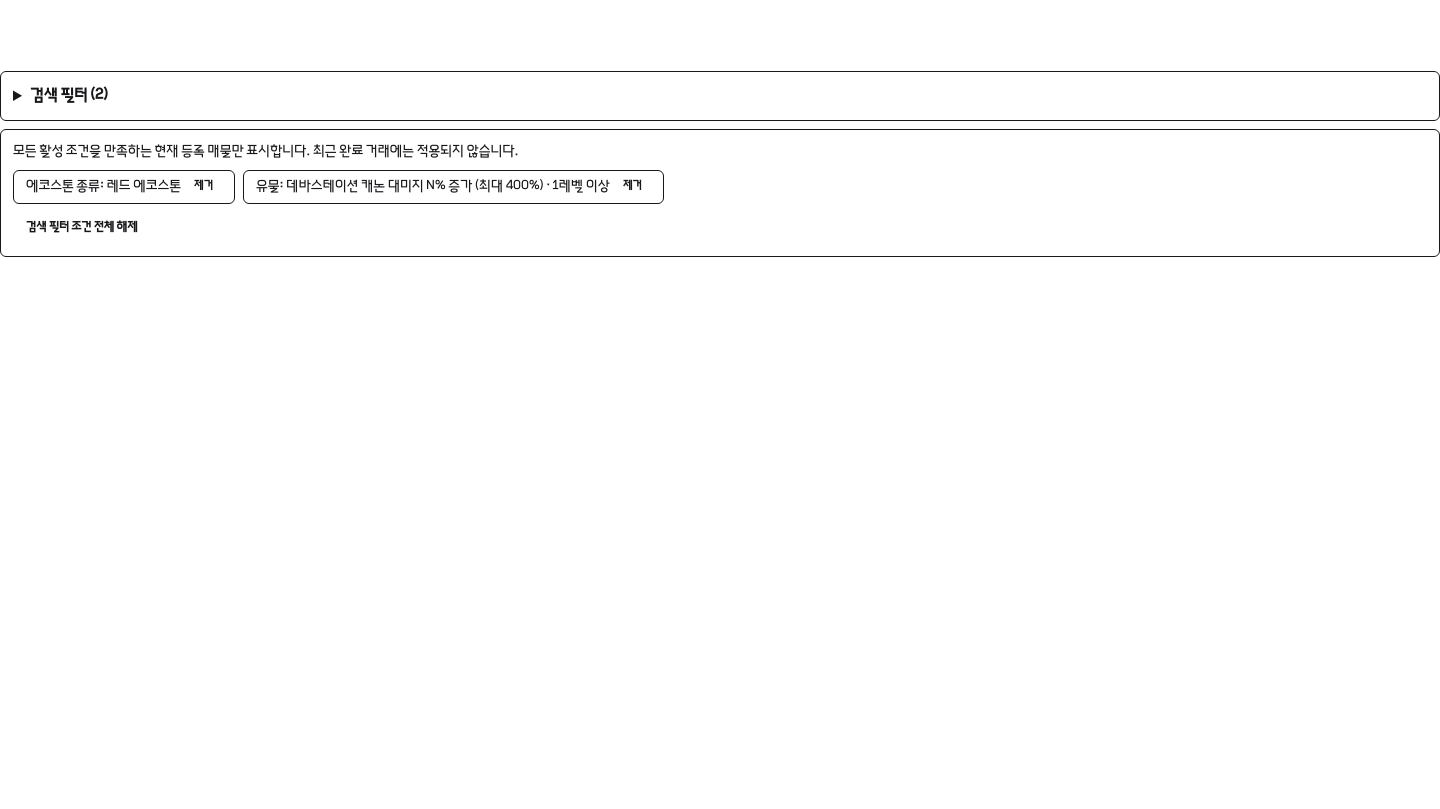
Test: shows a dismissible error toast for conflicting targets without applying or clearing drafts
Click the heading "검색 필터 (2)" at (69, 96), box [30,87,108,105]
(page scrolled)
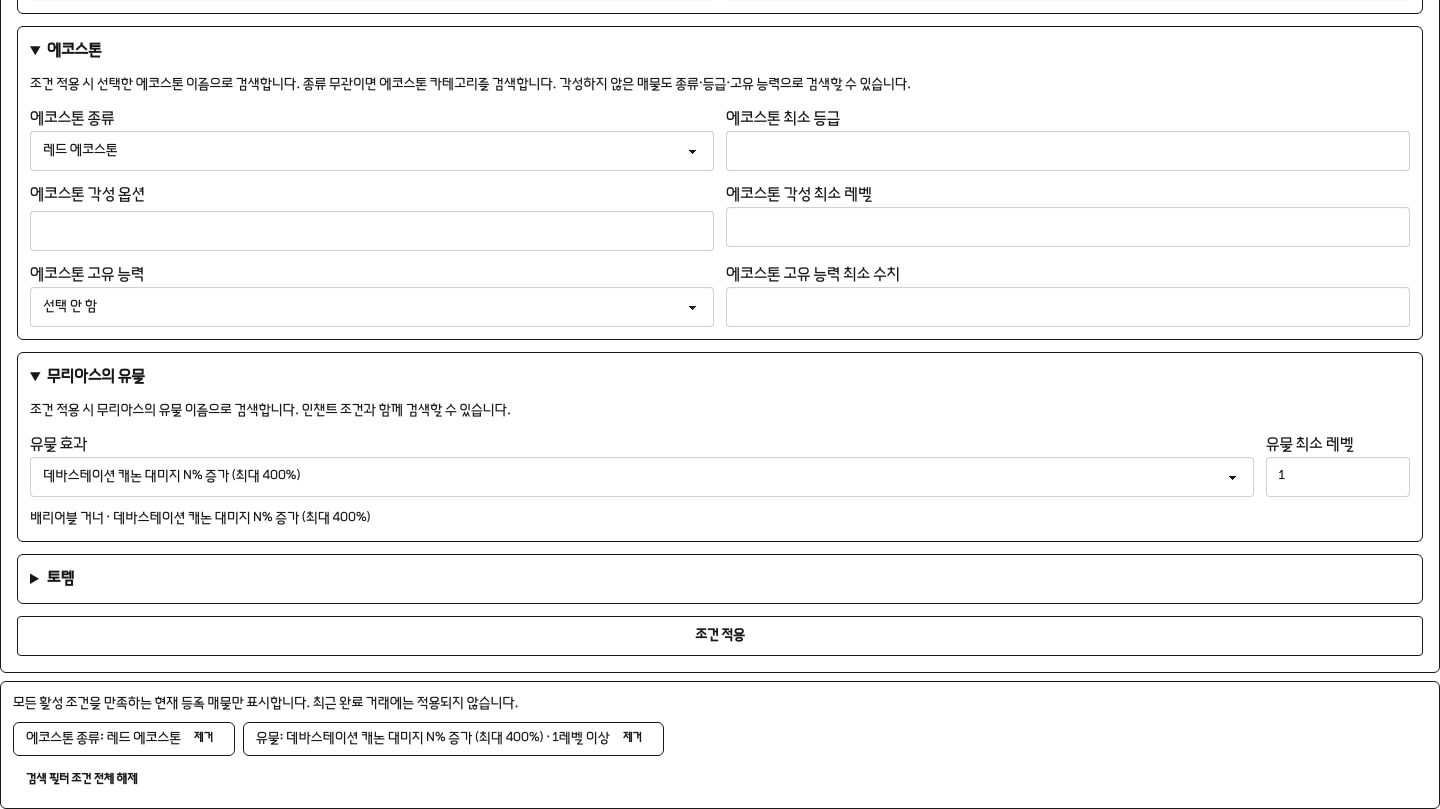
Click the button "조건 적용" at (720, 636), box [17,616,1423,656]
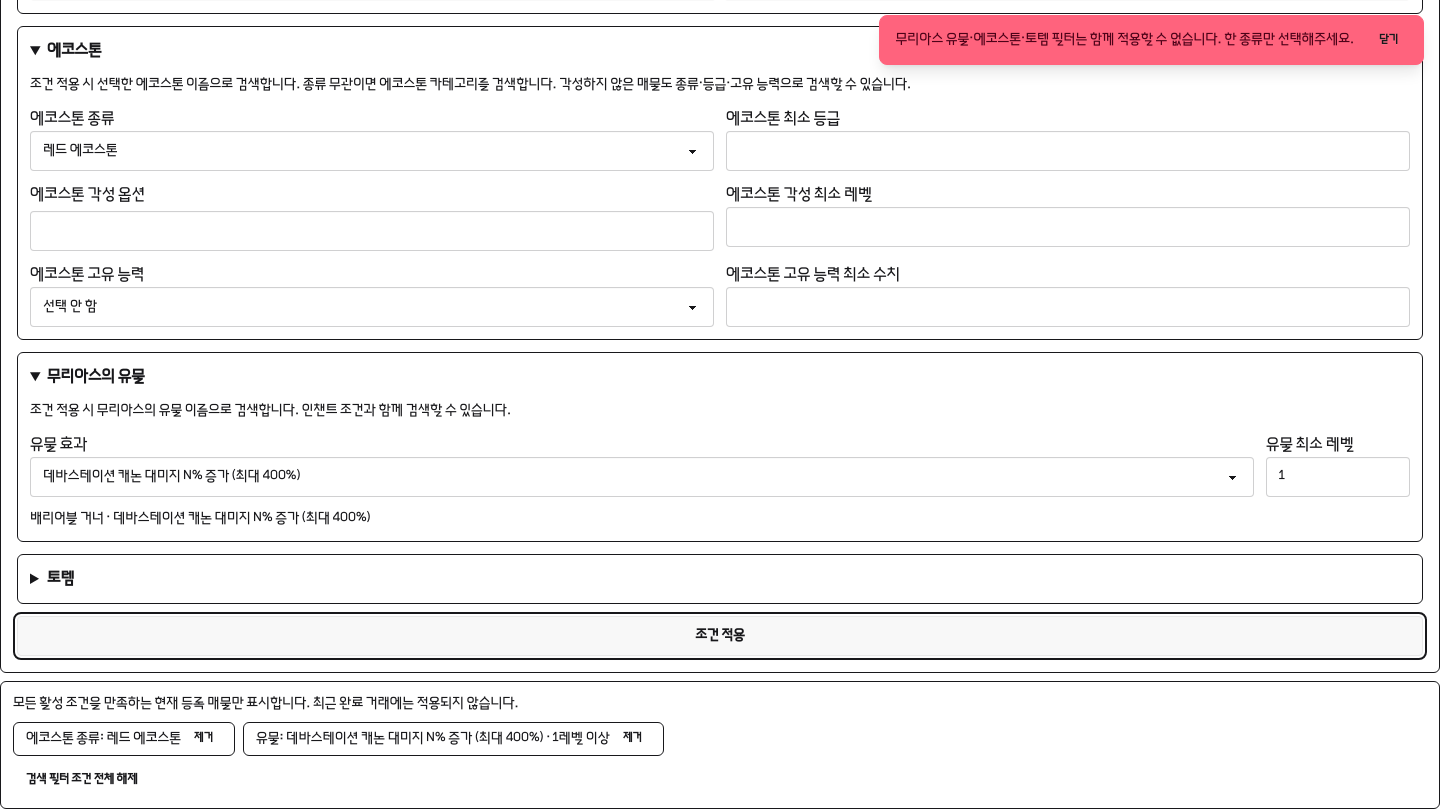
Result: the message shows "함께 적용할 수 없습니다" at [896,32,1354,48]
Click the button with aria-label "오류 알림 닫기" at (1389, 40), box [1370,28,1407,52]
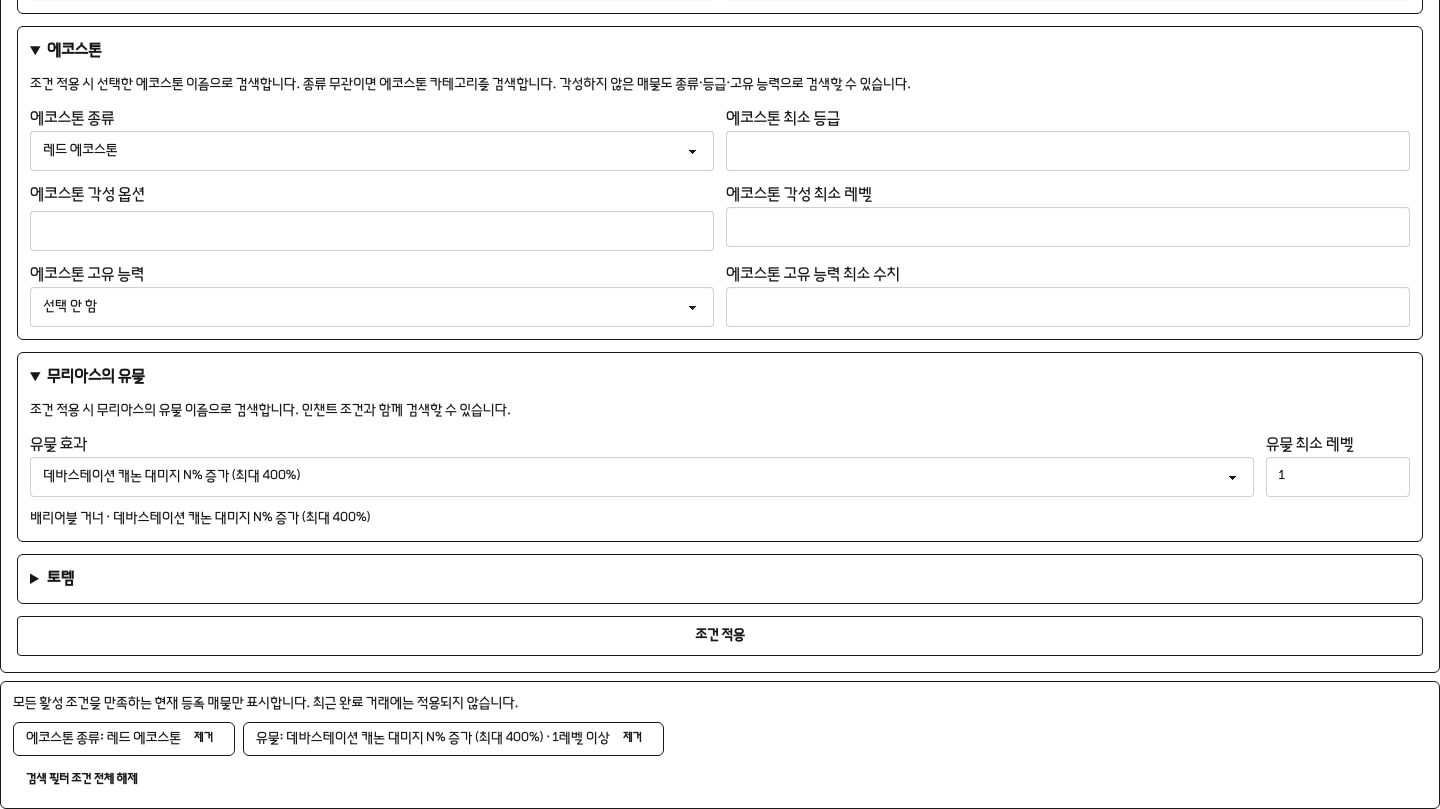
Result: the dropdown labelled "에코스톤 종류" shows "레드 에코스톤" at [30,131,714,171]
Result: the message "무리아스 유물·에코스톤·토템 필터는 함께 적용할 수 없습니다. 한 종류만 선택해주세요. 닫기" is gone
